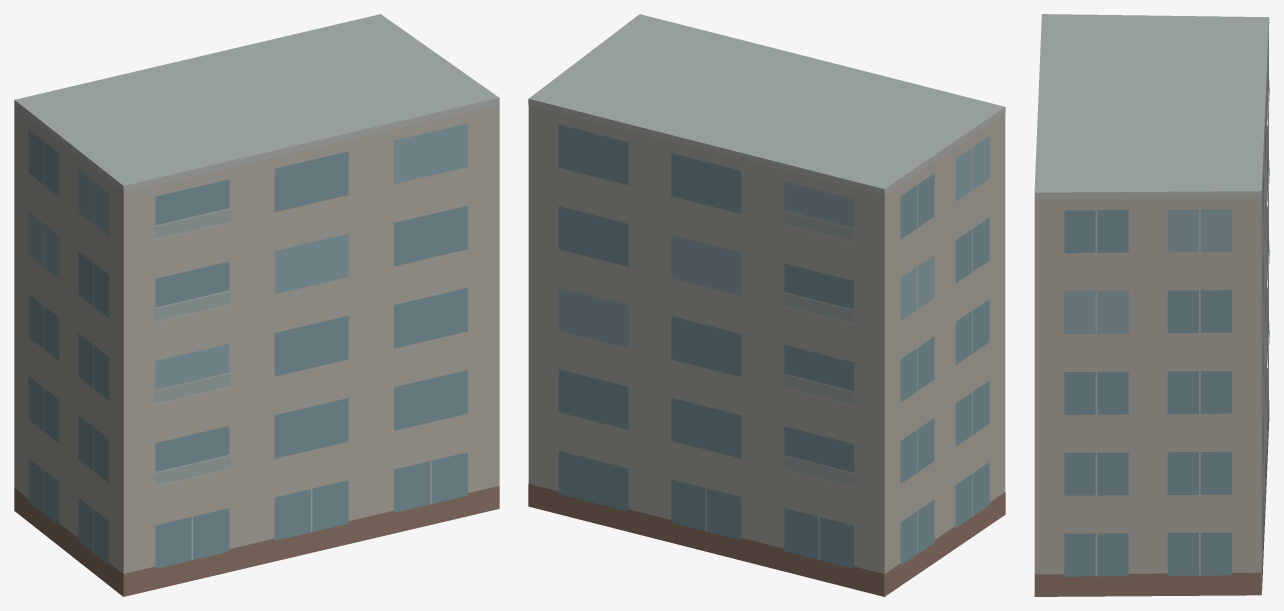
The model's file is survey-upis-32959463.glb.
The picture shows the model from 3 angles, left to right: view 1: azimuth 30°, elevation 25°; view 2: azimuth 150°, elevation 25°; view 3: azimuth 270°, elevation 25°; orthographic projection.
Visible parts, largest first — view 1: survey-upis-32959463.tmp; view 2: survey-upis-32959463.tmp; view 3: survey-upis-32959463.tmp.
Boxes of the visible parts, x1=… form: survey-upis-32959463.tmp: x1=14, y1=14, x2=499, y2=596; survey-upis-32959463.tmp: x1=528, y1=14, x2=1005, y2=596; survey-upis-32959463.tmp: x1=1034, y1=14, x2=1269, y2=596.
Size of the model in its own units: 14.47 by 15.25 by 8.04.
